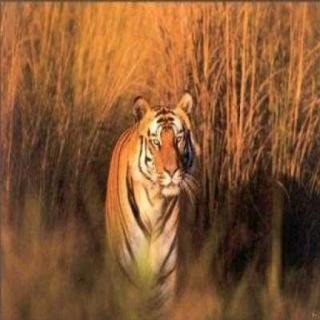Tiger: (102, 78, 217, 314)
